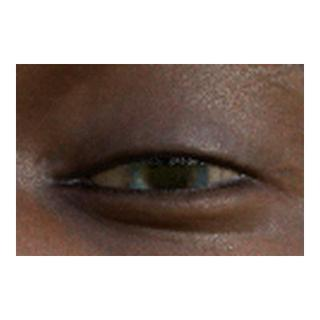pupil: (150, 157, 187, 195)
